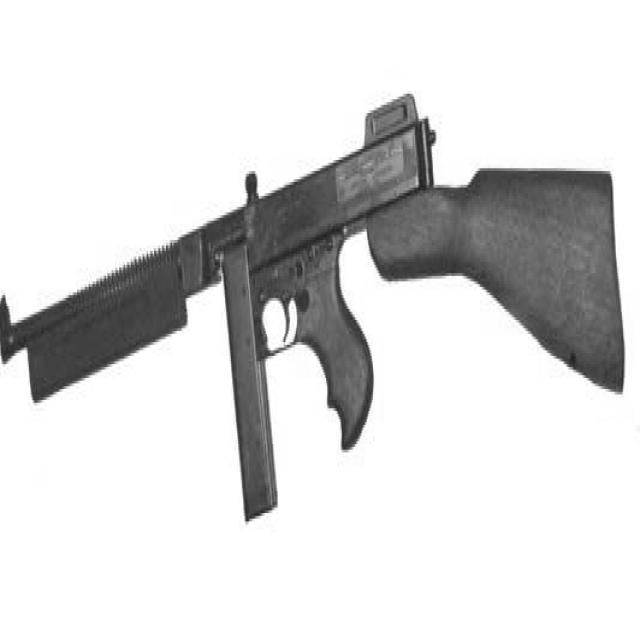Weapon: (0, 94, 623, 516)
